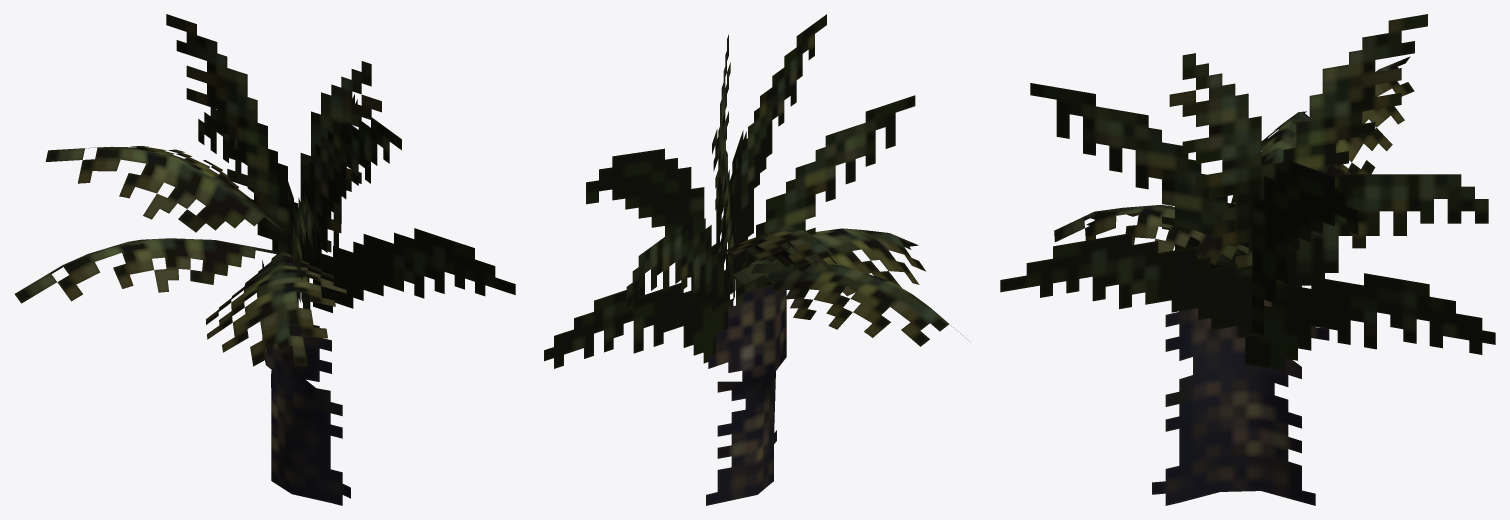
The model's file is EnvFldMD_Tree_A_Palm_SA_Painted.FBX.
3 views of the same model, side by side, from view 1: azimuth 30°, elevation 25°; view 2: azimuth 150°, elevation 25°; view 3: azimuth 270°, elevation 25° (orthographic). The views are drawn at different scales.
Visible parts, largest first — view 1: EnvFldMD_Tree_A_Palm_SA_Painted; view 2: EnvFldMD_Tree_A_Palm_SA_Painted; view 3: EnvFldMD_Tree_A_Palm_SA_Painted.
Part boxes in pixels (bbox=[...]): EnvFldMD_Tree_A_Palm_SA_Painted: bbox=[14, 14, 515, 505]; EnvFldMD_Tree_A_Palm_SA_Painted: bbox=[544, 14, 970, 505]; EnvFldMD_Tree_A_Palm_SA_Painted: bbox=[1000, 14, 1495, 505].
Bounding box in the file's own units: 171 × 190 × 182.
Materials: 2 (2 with a texture image).
